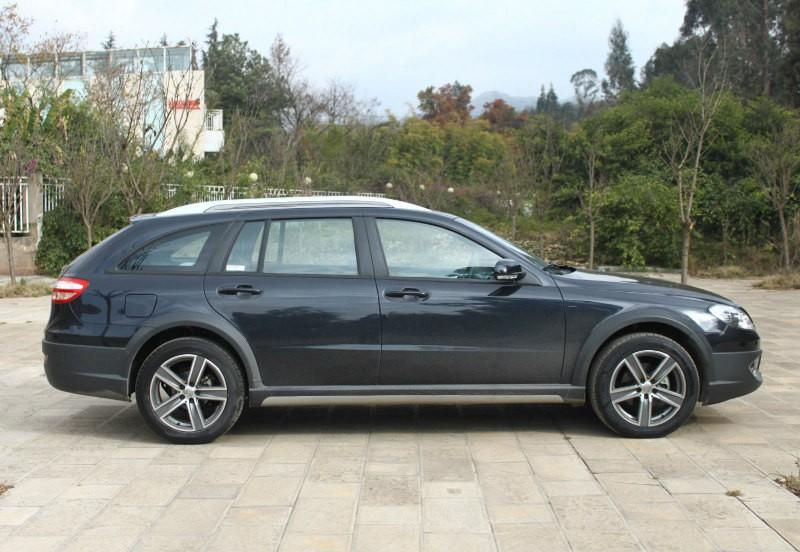Wagon: (42, 194, 764, 444)
